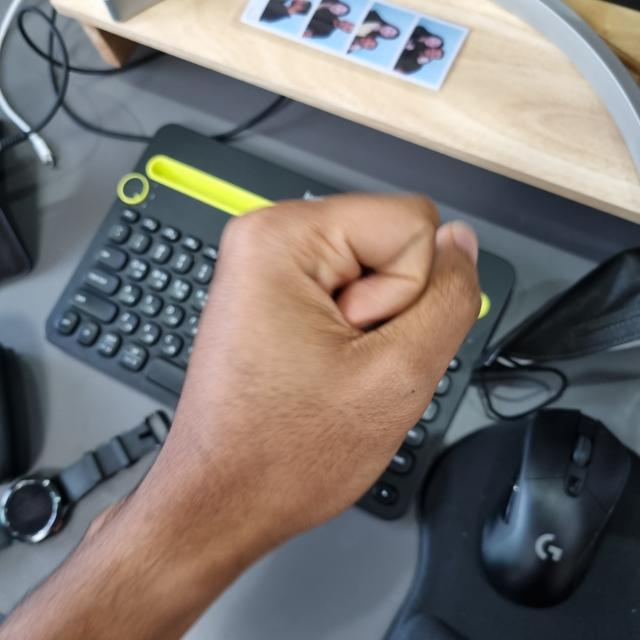Rock: (165, 193, 481, 536)
